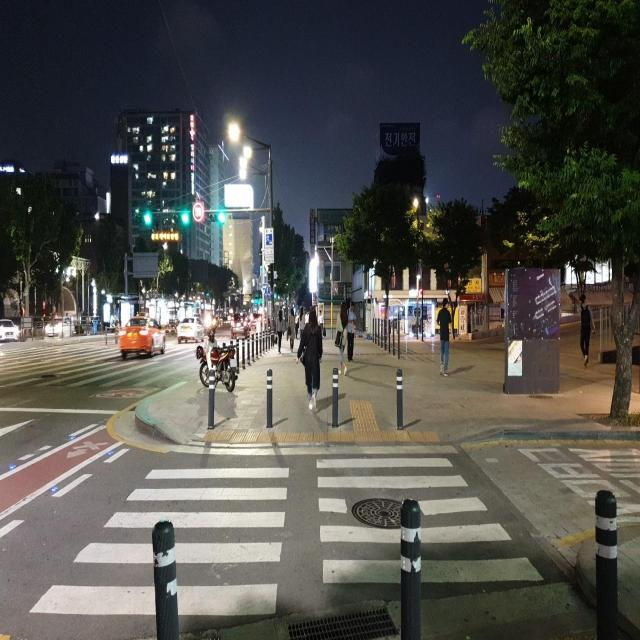횡단보도: (28, 455, 546, 619), (0, 344, 173, 387)
